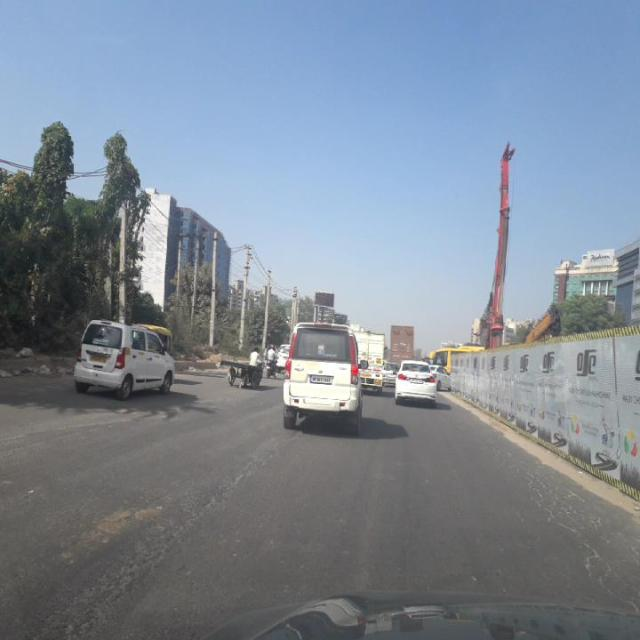D20: (473, 418, 625, 600)
